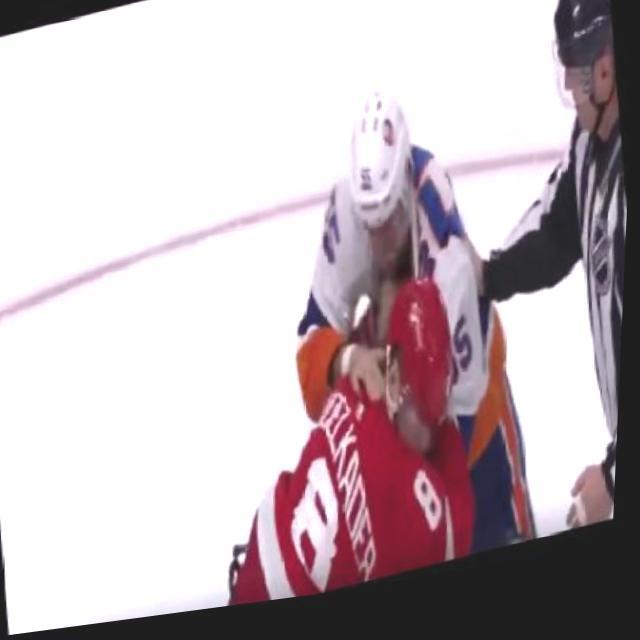fight: (236, 65, 560, 612)
